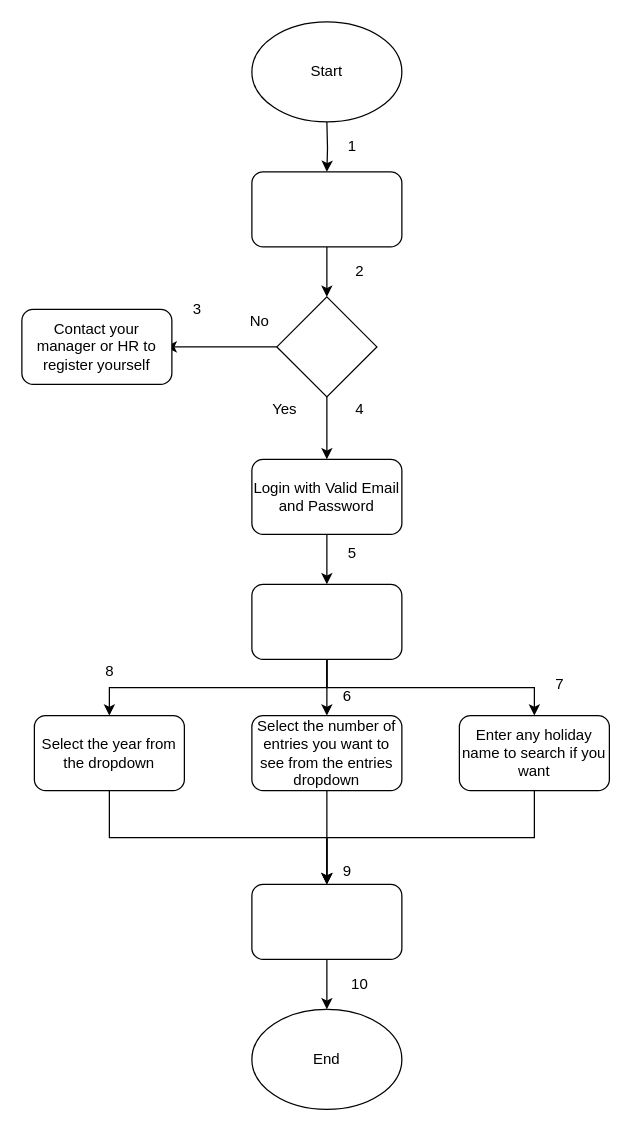
This 631x1131 diagram has some shape labels left out. The centre of each missing label's shape, as x and y in pixels:
"Are you registered?" belongs at point (326, 346).
"Click on the HOLIDAY TAB" belongs at point (326, 621).
"Go to AMS Portal" belongs at point (326, 209).
"Public Holidays are displayed on the screen" belongs at point (326, 921).
